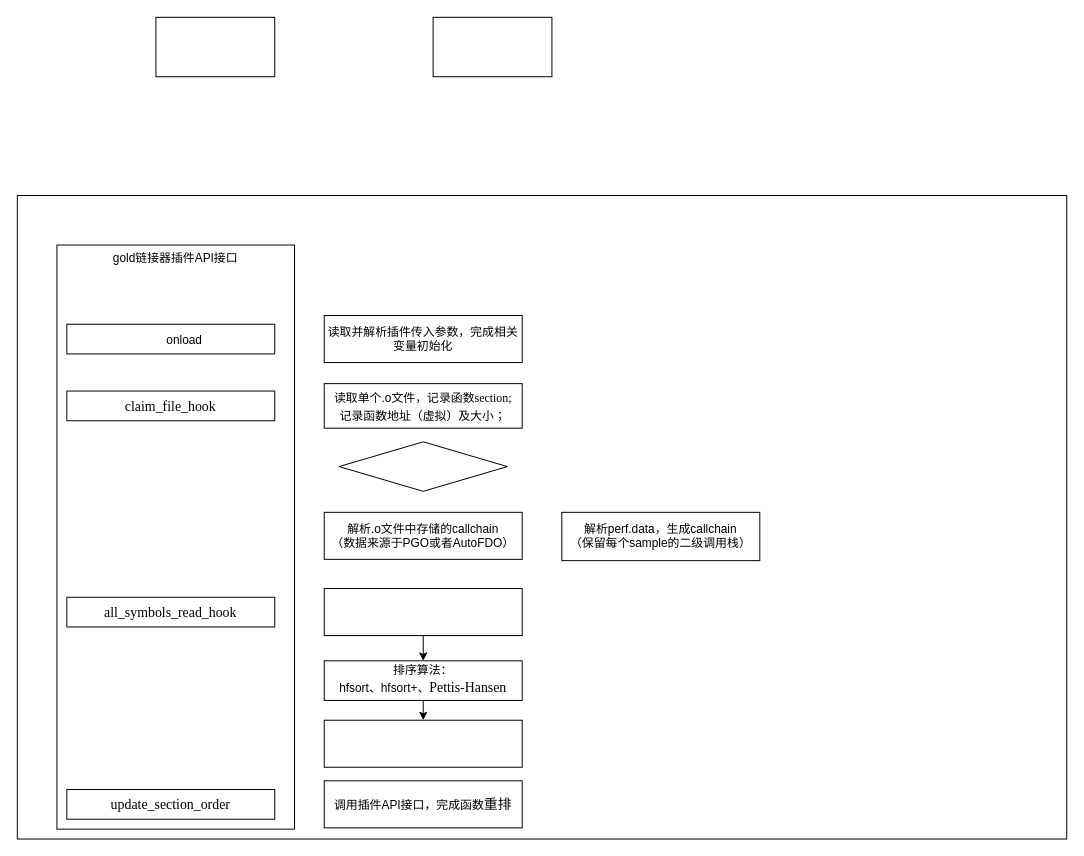
This 1084x856 diagram has some shape labels left out. Here are the shapes that lost their labels. From the top down, the centre of each, then its label:
(x=422, y=466): callchain在.o文件内
(x=422, y=612): 所有.o文件已处理完毕
(x=422, y=743): 查找排序函数的对应的 section ，按顺序写入 section_list
